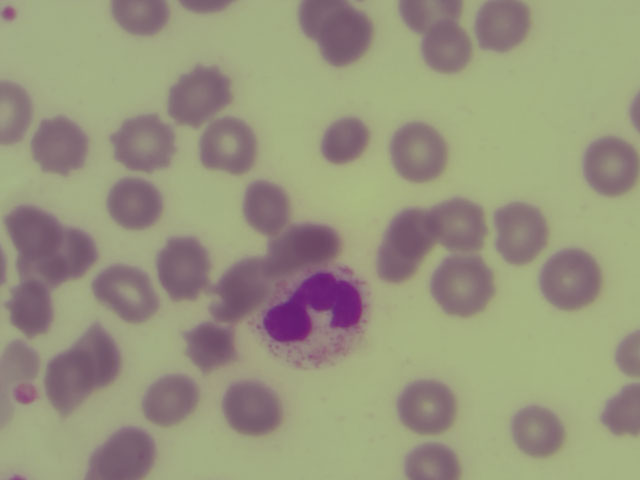Platelets: (15, 380, 41, 405), (3, 9, 16, 21)
RBC: (171, 63, 238, 125), (199, 113, 257, 182), (539, 247, 602, 310), (221, 382, 284, 442), (429, 257, 492, 314), (36, 115, 95, 174), (494, 202, 548, 265), (219, 255, 272, 318), (159, 239, 209, 304), (99, 266, 158, 320), (94, 431, 159, 480), (78, 323, 127, 388), (142, 371, 201, 424), (394, 124, 450, 179), (107, 179, 162, 235), (397, 382, 453, 436), (319, 19, 377, 71), (5, 285, 60, 338), (585, 141, 637, 197), (512, 405, 567, 457), (3, 202, 57, 254), (436, 195, 485, 251), (192, 318, 240, 374), (117, 118, 169, 169), (479, 1, 529, 54), (52, 351, 99, 407), (399, 448, 476, 480), (604, 372, 640, 436), (400, 1, 462, 38), (427, 25, 472, 72), (248, 180, 289, 230), (4, 83, 35, 148), (286, 226, 344, 260), (53, 233, 94, 281), (298, 2, 352, 38), (378, 237, 417, 286), (114, 1, 166, 36), (320, 123, 366, 161), (18, 251, 62, 290), (394, 213, 430, 260), (261, 236, 297, 270), (618, 329, 640, 374), (182, 1, 237, 16)
WBC: (260, 262, 371, 372)
